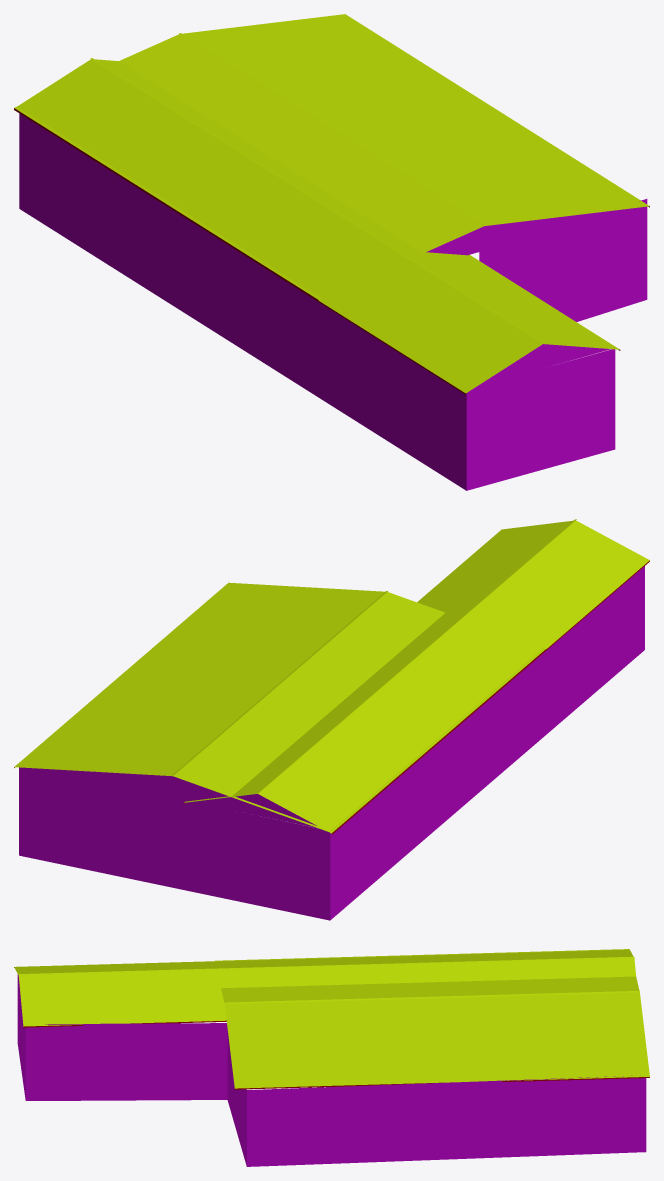
File: atelier_verrieres.glb
3 renders of one model, top to bottom at view 1: azimuth 30°, elevation 25°; view 2: azimuth 150°, elevation 25°; view 3: azimuth 270°, elevation 25°, orthographic. The views are drawn at different scales.
Parts seen in each view (by area): view 1: atelier_verrieres; view 2: atelier_verrieres; view 3: atelier_verrieres.
Part boxes in pixels (x1,y1,x2,y2): atelier_verrieres: (14, 14, 649, 490); atelier_verrieres: (14, 519, 649, 920); atelier_verrieres: (14, 949, 649, 1166).
Bounding box in the file's own units: 33.24 × 10.74 × 63.13.
